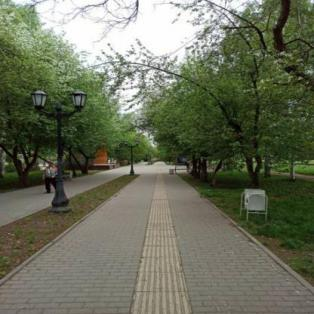Podoctatil: (132, 178, 190, 310)
